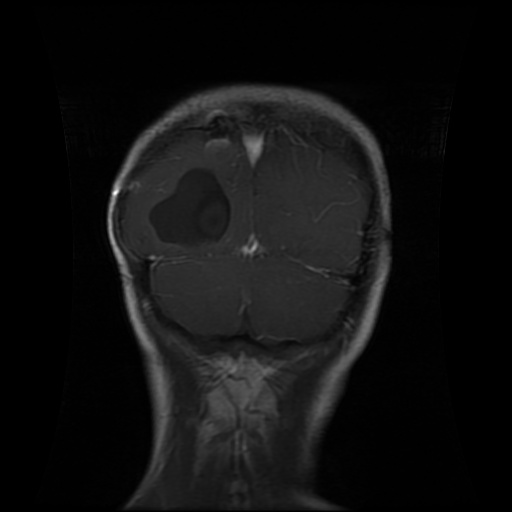glioma: (144, 162, 235, 247)
